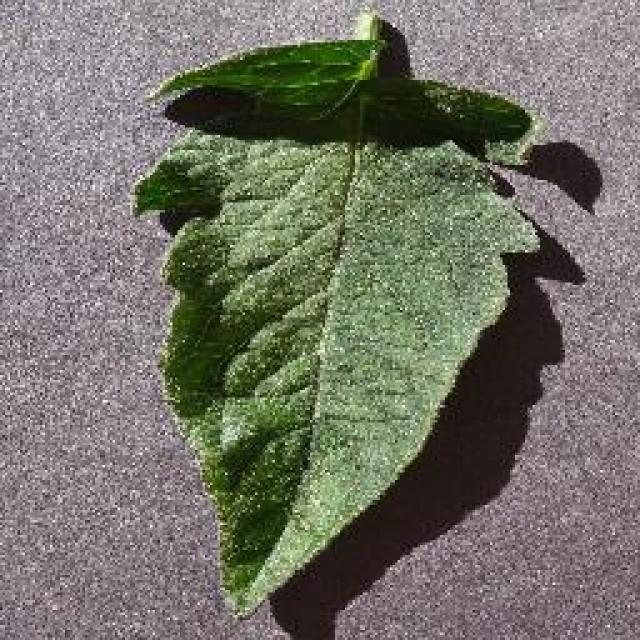Tomato___healthy: (125, 12, 542, 621)
